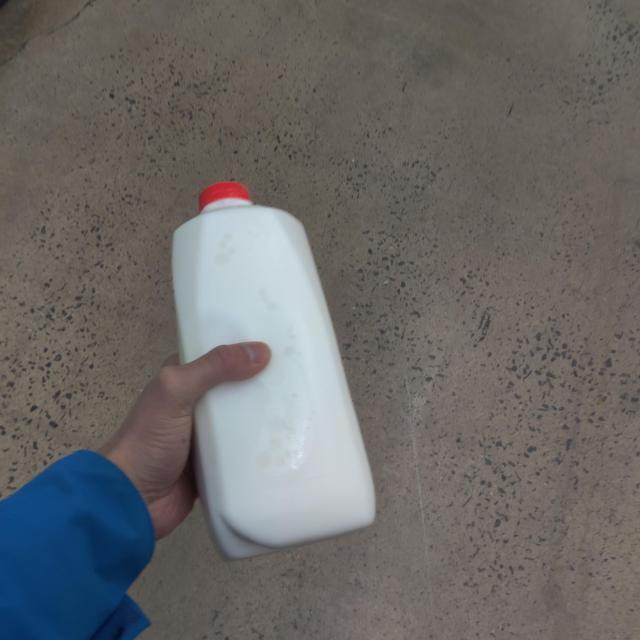Milk: (176, 186, 378, 554)
